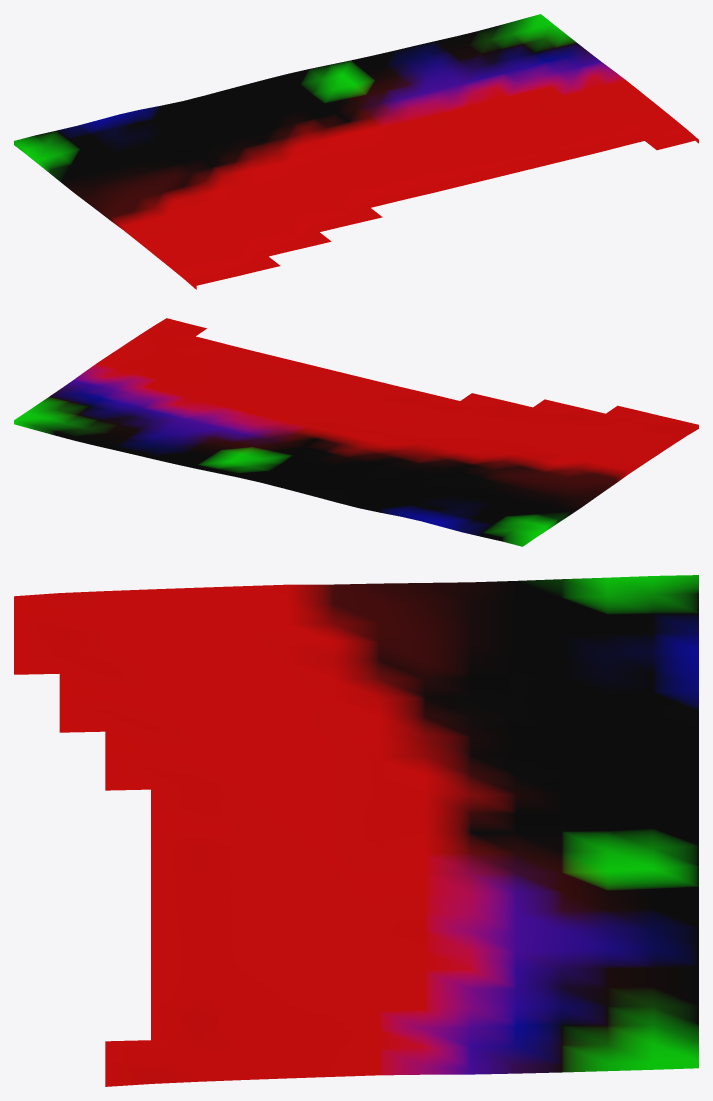
File: coast_14_8.glb
The picture shows the model from 3 angles, top to bottom: view 1: azimuth 30°, elevation 25°; view 2: azimuth 150°, elevation 25°; view 3: azimuth 270°, elevation 25°; orthographic projection. The views are drawn at different scales.
Visible parts, largest first — view 1: terrain; view 2: terrain; view 3: terrain.
Part boxes in pixels (x1=…): terrain: x1=14, y1=14, x2=698, y2=289; terrain: x1=14, y1=318, x2=698, y2=546; terrain: x1=14, y1=575, x2=698, y2=1086.
Size of the model in its own units: 200 by 5.99 by 120.
